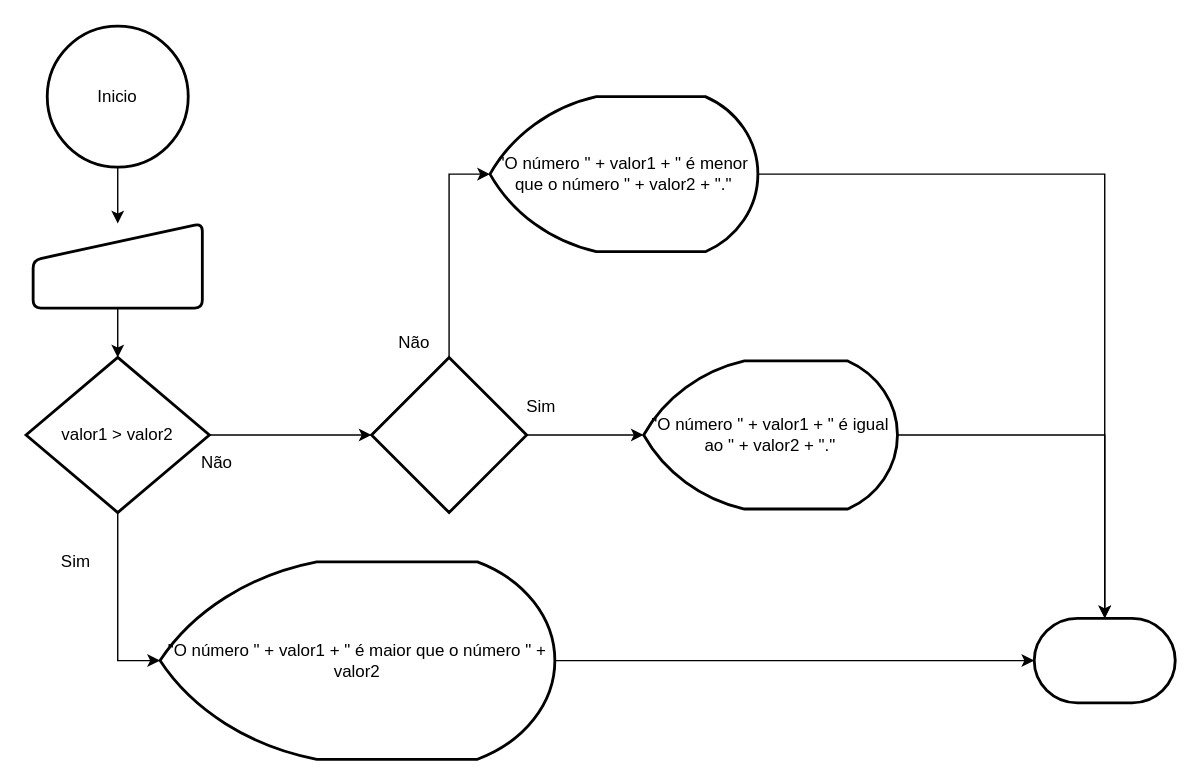
Image size: 1200x784. Some labels were removed from this diagram. The centre of each missing label's shape, as x and y in pixels:
Fim: the point at 1104,660
valor1 == valor2: the point at 448,434
valor1, valor2: the point at 117,265
